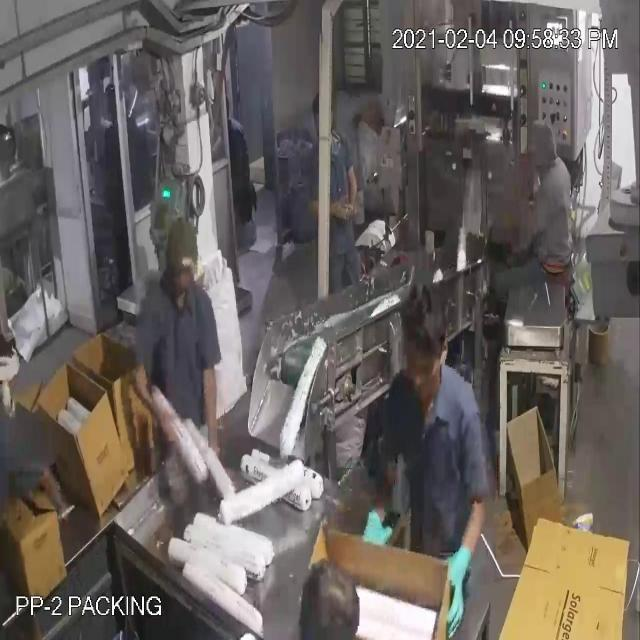No_Gloves: (18, 44, 464, 578)
